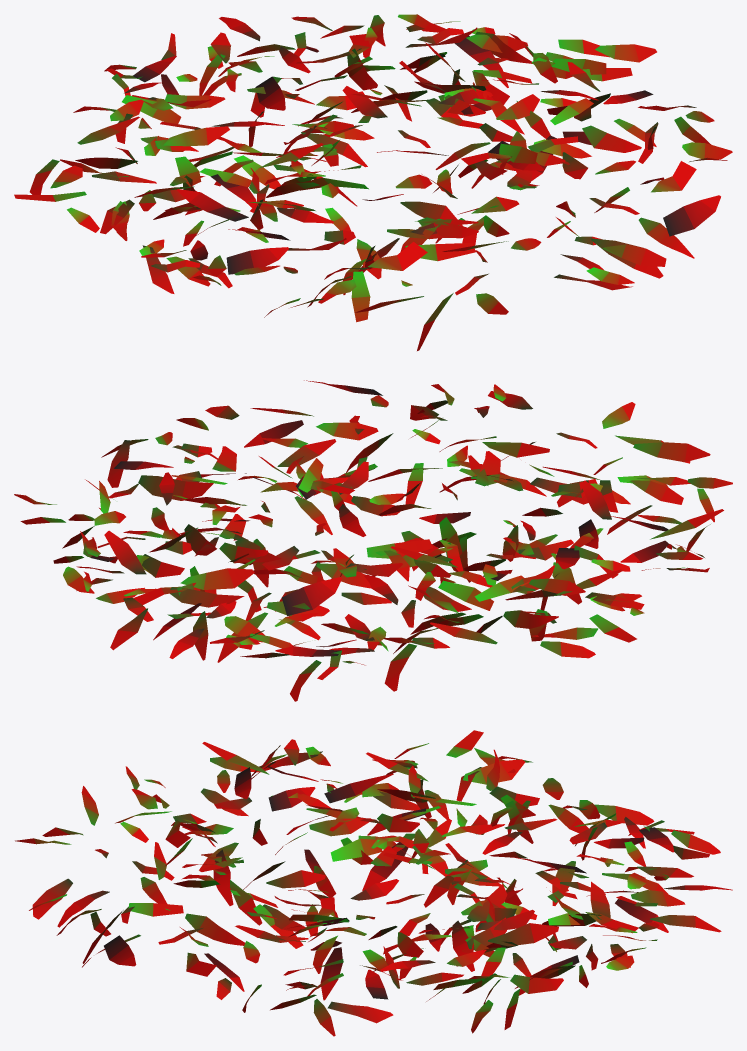
The model's file is Var1_LOD2.fbx.
The picture shows the model from 3 angles, top to bottom: view 1: azimuth 30°, elevation 25°; view 2: azimuth 150°, elevation 25°; view 3: azimuth 270°, elevation 25°; orthographic projection. The views are drawn at different scales.
Parts seen in each view (by area): view 1: _ec5a_Var1_LOD2; view 2: _ec5a_Var1_LOD2; view 3: _ec5a_Var1_LOD2.
Part boxes in pixels (<box>): _ec5a_Var1_LOD2: <box>14,14,732,350</box>; _ec5a_Var1_LOD2: <box>14,380,732,701</box>; _ec5a_Var1_LOD2: <box>15,730,732,1036</box>.
Size of the model in its own units: 114 by 9.09 by 118.
